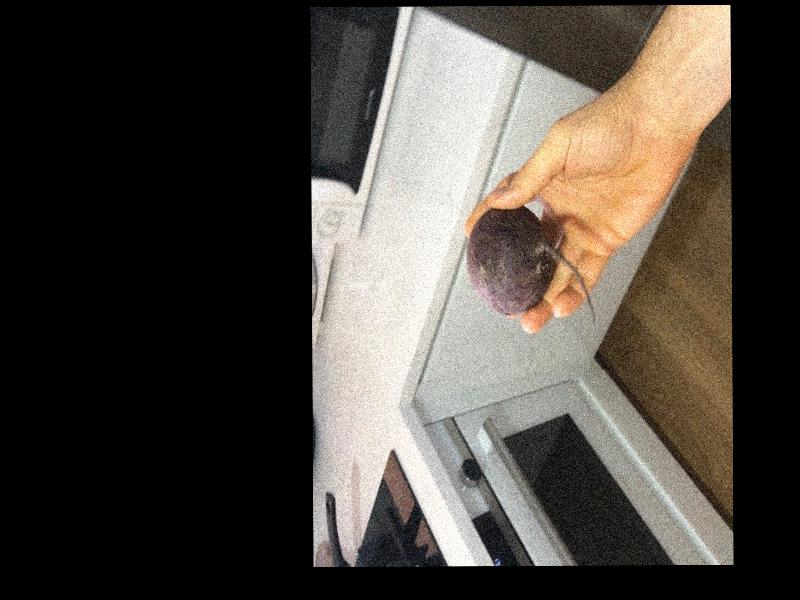Beet: (466, 206, 596, 326)
